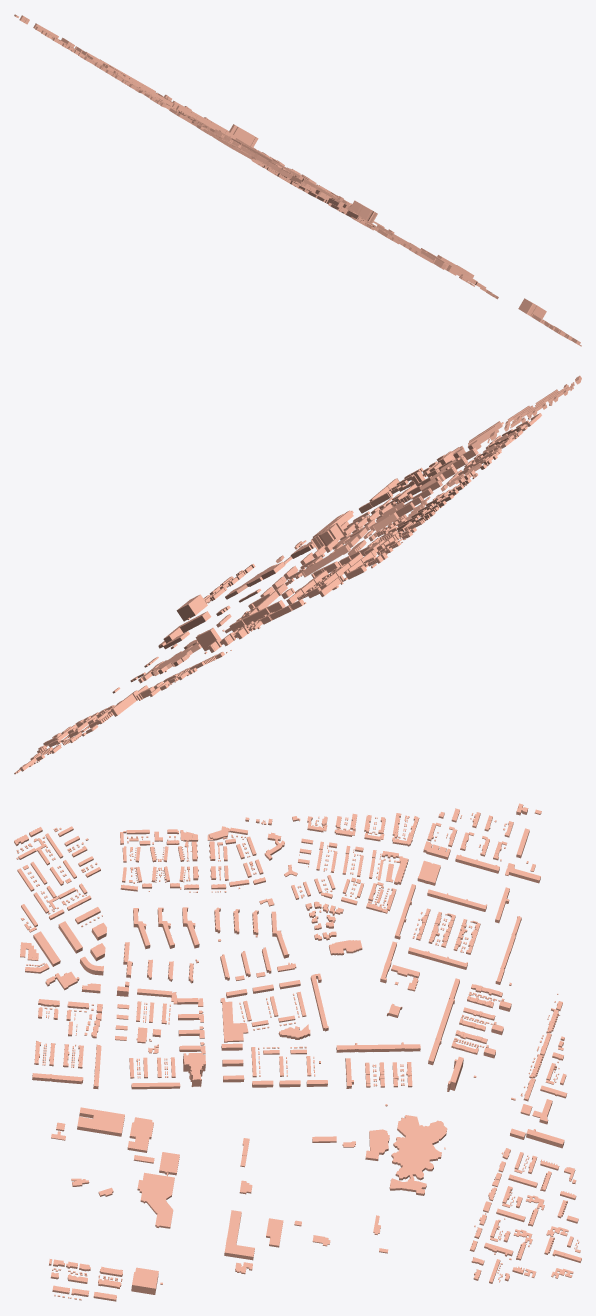
The picture shows the model from 3 angles, top to bottom: view 1: azimuth 30°, elevation 25°; view 2: azimuth 150°, elevation 25°; view 3: azimuth 270°, elevation 25°; orthographic projection. The views are drawn at different scales.
Bounding box in the file's own units: 1049 × 756 × 1280.
